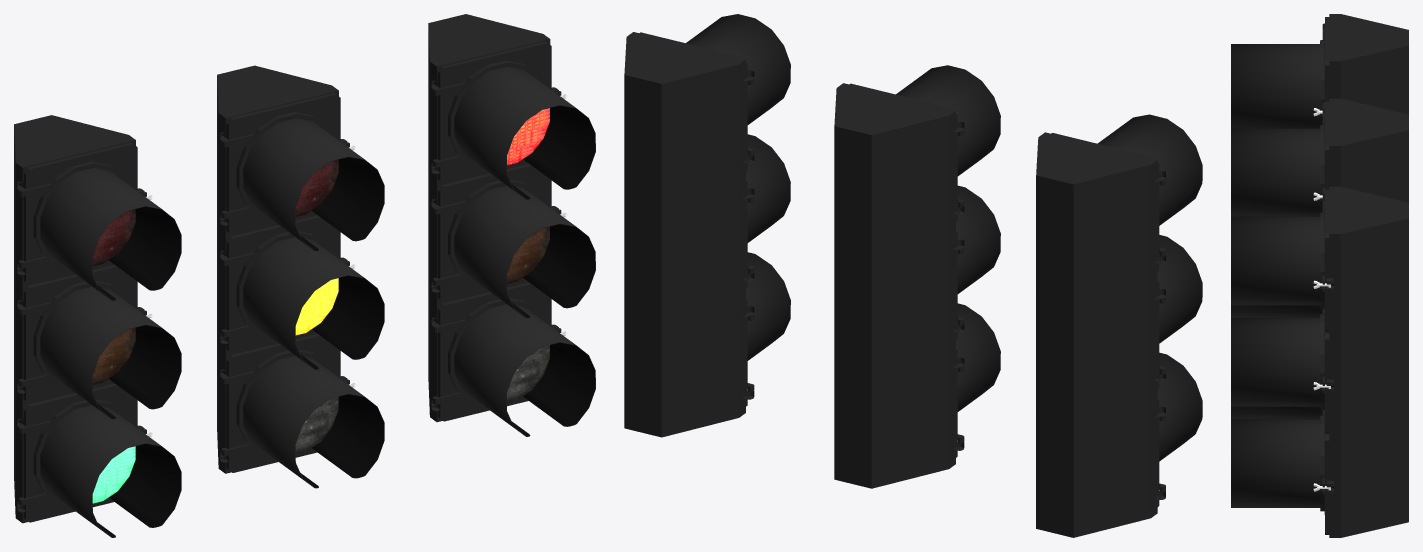
Rendered from 8_inch_ge_dr6_traffic_signals.glb.
The picture shows the model from 3 angles, left to right: view 1: azimuth 30°, elevation 25°; view 2: azimuth 150°, elevation 25°; view 3: azimuth 270°, elevation 25°; orthographic projection. The views are drawn at different scales.
Visible parts, largest first — view 1: Cylinder.299, Cylinder.315, Cylinder.313; view 2: Cylinder.299, Cylinder.313, Cylinder.315; view 3: Cylinder.299, Cylinder.313, Cylinder.315.
Part boxes in pixels (x1,y1,x2,y2): Cylinder.299: [428, 14, 595, 436]; Cylinder.315: [14, 115, 181, 537]; Cylinder.313: [217, 65, 384, 488]; Cylinder.299: [624, 14, 790, 437]; Cylinder.313: [834, 65, 1000, 488]; Cylinder.315: [1036, 114, 1202, 537]; Cylinder.299: [1231, 186, 1408, 537]; Cylinder.313: [1231, 98, 1408, 419]; Cylinder.315: [1231, 14, 1408, 128].
Size of the model in its own units: 1.29 by 0.8097 by 0.4292.
Materials: 10 (6 with a texture image).
